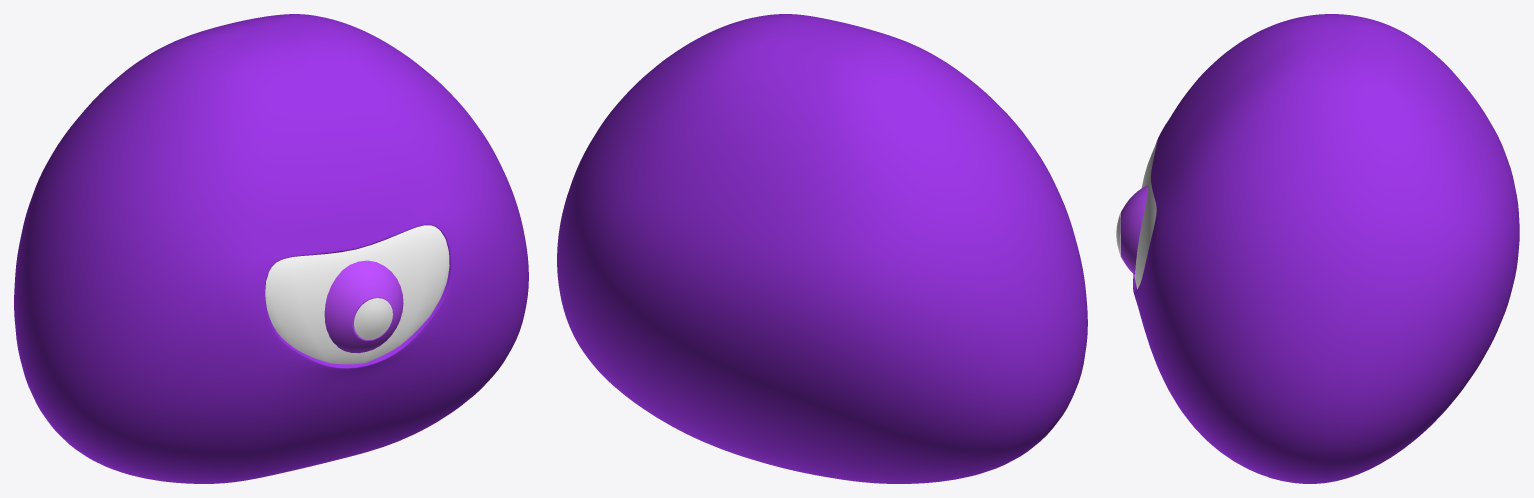
Rendered from monster.glb.
The picture shows the model from 3 angles, left to right: view 1: azimuth 30°, elevation 25°; view 2: azimuth 150°, elevation 25°; view 3: azimuth 270°, elevation 25°; orthographic projection. The views are drawn at different scales.
Parts seen in each view (by area): view 1: body, Sphere.001, Sphere.002, Sphere.003; view 2: body; view 3: body, Sphere.002, Sphere.001.
Boxes of the visible parts, left/top/right/bottom form: body: left=14, top=14, right=528, bottom=483; Sphere.001: left=265, top=225, right=449, bottom=364; Sphere.002: left=324, top=260, right=403, bottom=353; Sphere.003: left=354, top=298, right=392, bottom=339; body: left=557, top=14, right=1087, bottom=483; body: left=1133, top=14, right=1519, bottom=483; Sphere.002: left=1120, top=185, right=1148, bottom=274; Sphere.001: left=1134, top=141, right=1157, bottom=289.
Size of the model in its own units: 2.63 by 2.22 by 2.05.
